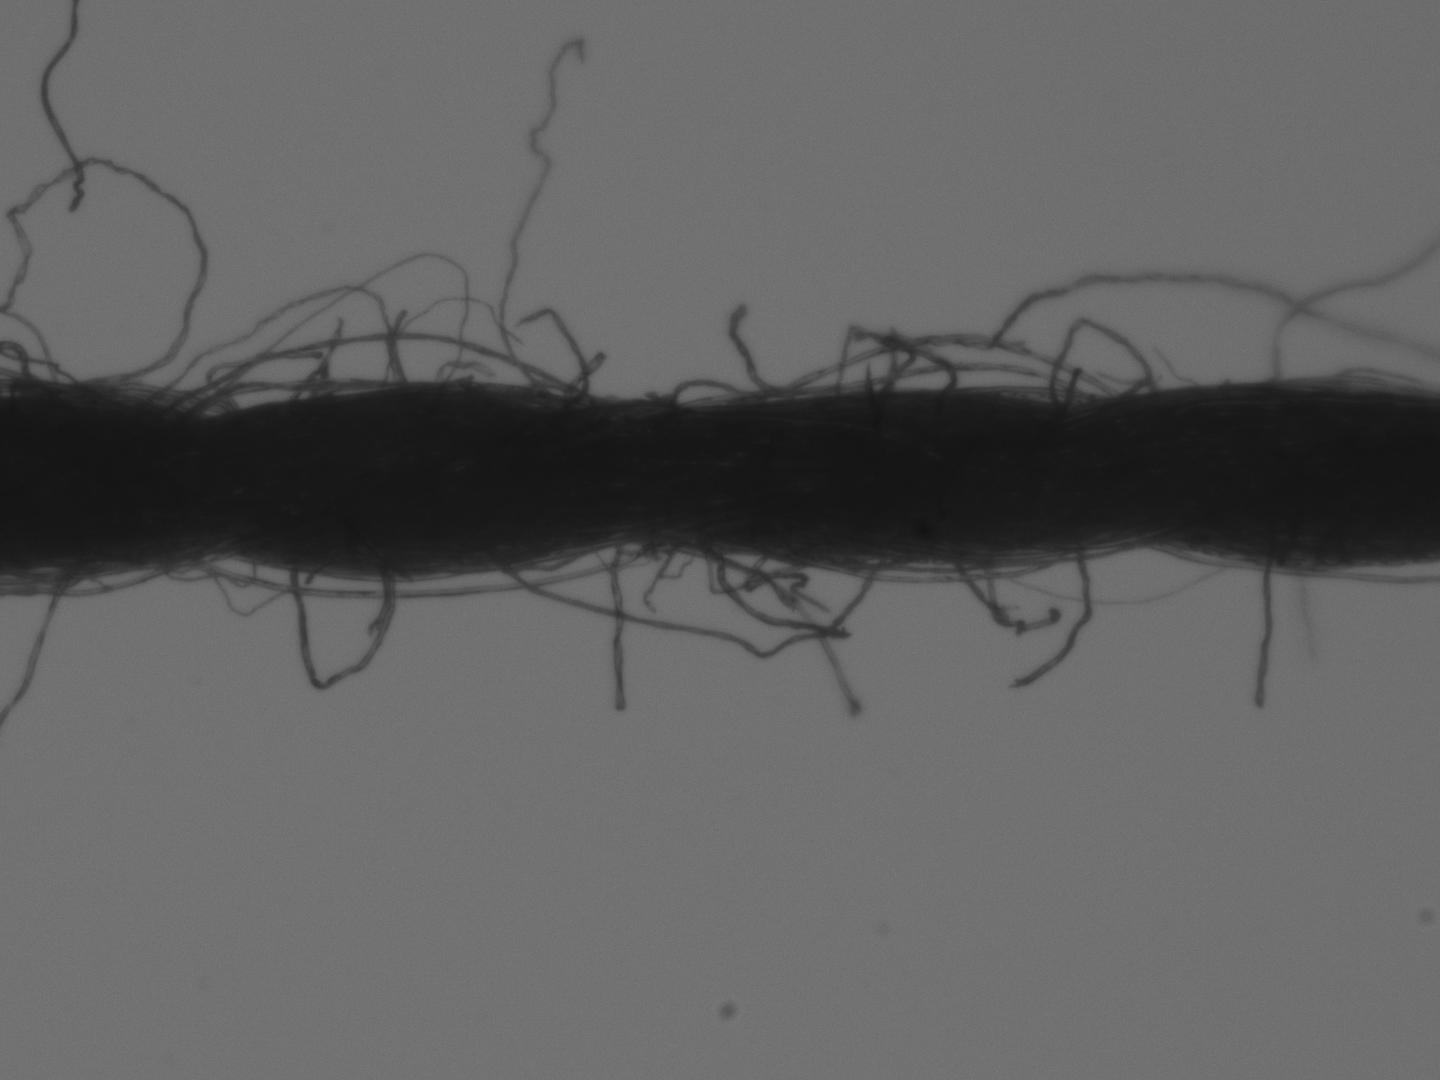loop_fiber: (497, 543, 880, 661), (769, 329, 1116, 406), (282, 551, 399, 697), (1044, 309, 1166, 427), (178, 378, 413, 429), (651, 374, 762, 419)
protruding_fiber: (1011, 548, 1096, 694), (728, 294, 781, 394), (1250, 560, 1278, 712)
